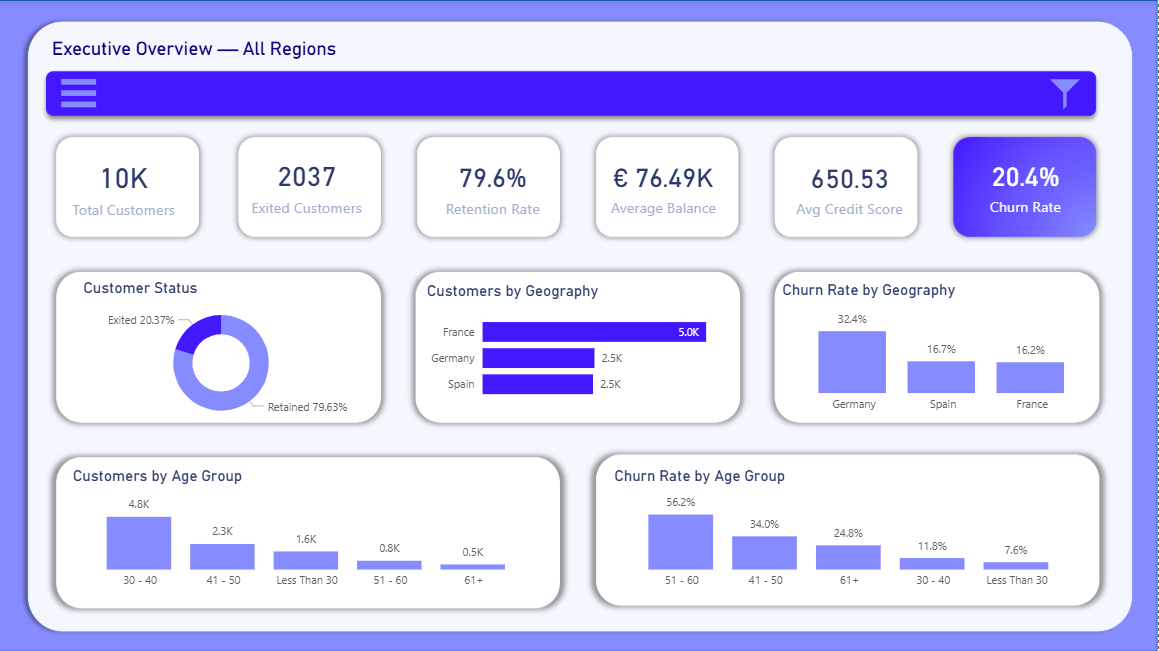

What the dashboard file says about the page in this screenshot:
{"tool":"powerbi","page":{"name":"Executive Overview","canvas":[1280,720],"ordinal":0},"visuals":[{"type":"shape","box":[0,0,1280.4,719.6],"z":0},{"type":"group","id":"g1","title":"Group 1","box":[125,77.5,1007.5,47.5],"z":0,"group":"g2"},{"type":"shape","title":"shape_slicer","box":[125,82.6,1007.5,42.4],"z":0,"group":"g1"},{"type":"image","box":[23.9,15.2,1230.4,691.3],"z":1000},{"type":"image","box":[125,77.5,59.8,47.5],"z":1000,"group":"g1"},{"type":"slicer","fields":{"Values":["All_Data.Geography"]},"box":[275.4,82.8,127.1,46.2],"z":1000,"group":"g2"},{"type":"image","box":[1155,77.5,47.5,52.5],"z":2000},{"type":"slicer","fields":{"Values":["All_Data.Member Status"]},"box":[469.9,82.8,125.2,46.2],"z":2000,"group":"g2"},{"type":"image","box":[41.3,78.3,95.7,50],"z":3000},{"type":"slicer","fields":{"Values":["All_Data.Age Group"]},"box":[656.7,82.8,154.1,46.2],"z":3000,"group":"g2"},{"type":"slicer","fields":{"Values":["All_Data.Tenure Group"]},"box":[855.1,82.8,154.1,46.2],"z":4000,"group":"g2"},{"type":"card","fields":{"Values":["_Measures.Churn Rate"]},"box":[1041.3,156.5,184.8,95.7],"z":4000},{"type":"card","fields":{"Values":["_Measures.Total Customers"]},"box":[60.9,163,154.3,84.8],"z":5000},{"type":"card","fields":{"Values":["_Measures.Exited Customers"]},"box":[260.9,156.5,160.9,95.7],"z":6000},{"type":"card","fields":{"Values":["_Measures.Retention Rate"]},"box":[469.6,160.9,154.3,89.1],"z":7000},{"type":"card","fields":{"Values":["_Measures.Average Balance"]},"box":[652.7,157.4,164,94.4],"z":8000},{"type":"card","fields":{"Values":["_Measures.Average Credit Score"]},"box":[856.4,150.7,167.3,109.3],"z":9000},{"type":"donutChart","title":"Customer Status","fields":{"Category":["All_Data.Customer_Status"],"Y":["_Measures.Total Customers"]},"box":[89.1,308.7,313,165.2],"z":10000},{"type":"clusteredBarChart","title":"Customers by Geography","fields":{"Category":["All_Data.Geography"],"Y":["_Measures.Total Customers"]},"box":[469.6,310.9,341.3,141.3],"z":11000},{"type":"clusteredColumnChart","title":"Churn Rate by Geography","fields":{"Category":["All_Data.Geography"],"Y":["_Measures.Churn Rate"]},"box":[862,310,364,154],"z":12000},{"type":"clusteredColumnChart","title":"Customers by Age Group","fields":{"Category":["All_Data.Age Group"],"Y":["_Measures.Total Customers"]},"box":[78.3,515.2,526.1,143.5],"z":13000},{"type":"clusteredColumnChart","fields":{"Category":["All_Data.Age Group"],"Y":["_Measures.Churn Rate"]},"box":[676.1,515.2,528.3,143.5],"z":14000},{"type":"group","id":"g2","title":"Group 2","box":[125,77.5,1007.5,51.5],"z":15000},{"type":"card","fields":{"Values":["_Measures.Title_Executive_Overview"]},"box":[28.2,29.8,376,46.4],"z":17000}]}

Visuals, with their boxes in screenshot pixels (x1, y1, x2, y2), scaled from the page's 1280x720 canvas onto the 1159x651 screenshot:
shape: 0/0/1158/650
"Group 1" group: 113/70/1025/113
"shape_slicer" shape: 113/75/1025/113
image: 22/14/1136/639
image: 113/70/167/113
slicer - All_Data.Geography: 249/75/364/117
image: 1046/70/1089/118
slicer - All_Data.Member Status: 425/75/539/117
image: 37/71/124/116
slicer - All_Data.Age Group: 595/75/734/117
slicer - All_Data.Tenure Group: 774/75/914/117
card - _Measures.Churn Rate: 943/142/1110/228
card - _Measures.Total Customers: 55/147/195/224
card - _Measures.Exited Customers: 236/142/382/228
card - _Measures.Retention Rate: 425/145/565/226
card - _Measures.Average Balance: 591/142/739/228
card - _Measures.Average Credit Score: 775/136/927/235
"Customer Status" donutChart: 81/279/364/428
"Customers by Geography" clusteredBarChart: 425/281/734/409
"Churn Rate by Geography" clusteredColumnChart: 781/280/1110/420
"Customers by Age Group" clusteredColumnChart: 71/466/547/596
clusteredColumnChart - All_Data.Age Group x _Measures.Churn Rate: 612/466/1091/596
"Group 2" group: 113/70/1025/117
card - _Measures.Title_Executive_Overview: 26/27/366/69
